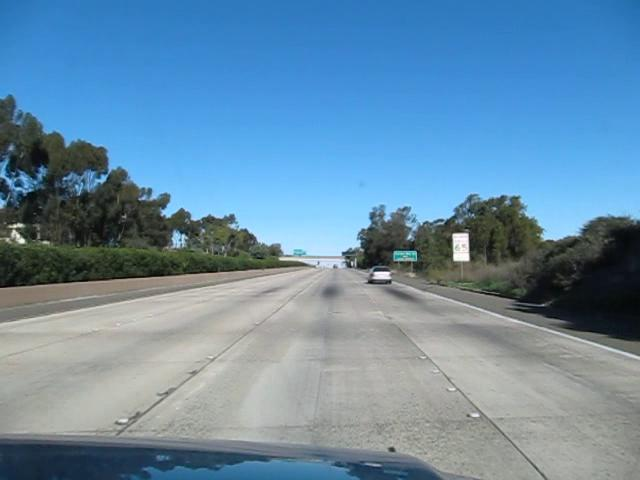speedLimit65: (451, 232, 470, 254)
